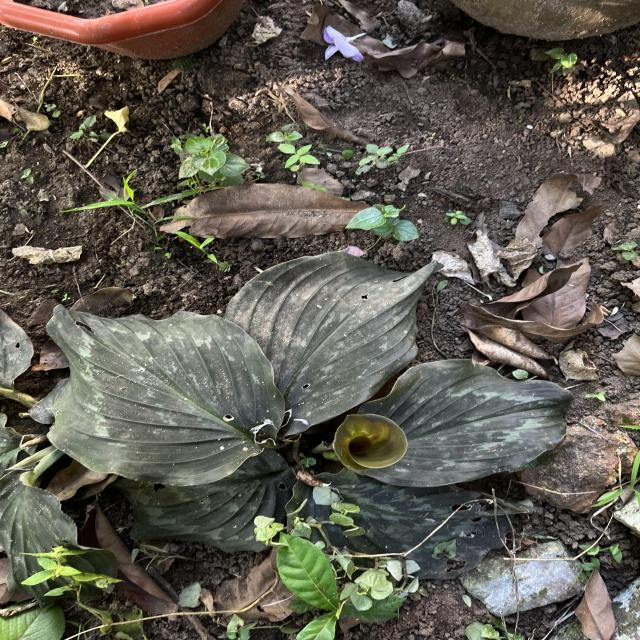Kaempferia galanga linn: (43, 298, 287, 488), (226, 248, 447, 442), (356, 356, 576, 489)
